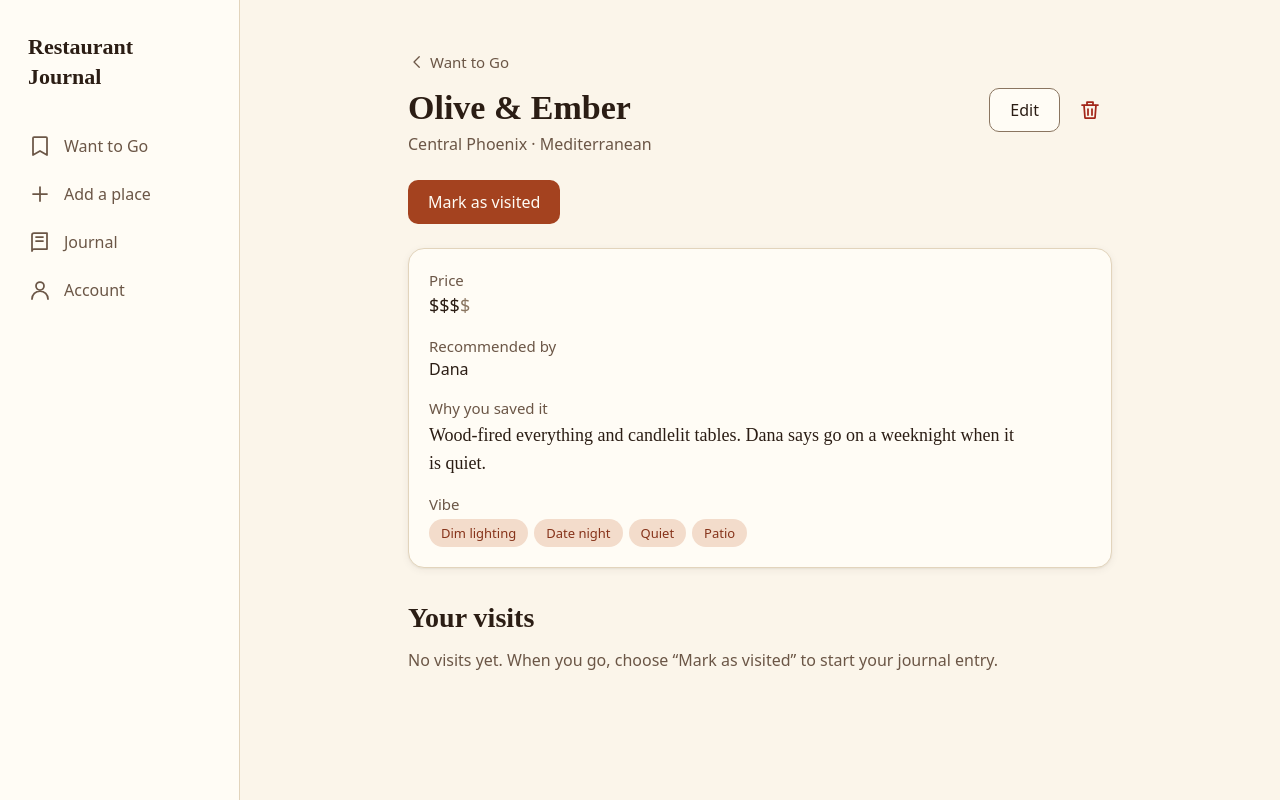
Test: Place detail screen › deletes a place after confirmation and returns to the list
The width and height of the screenshot is (1280, 800).
Click the button named "Delete Olive & Ember" at point(1090, 110), box [1068,88,1112,132]
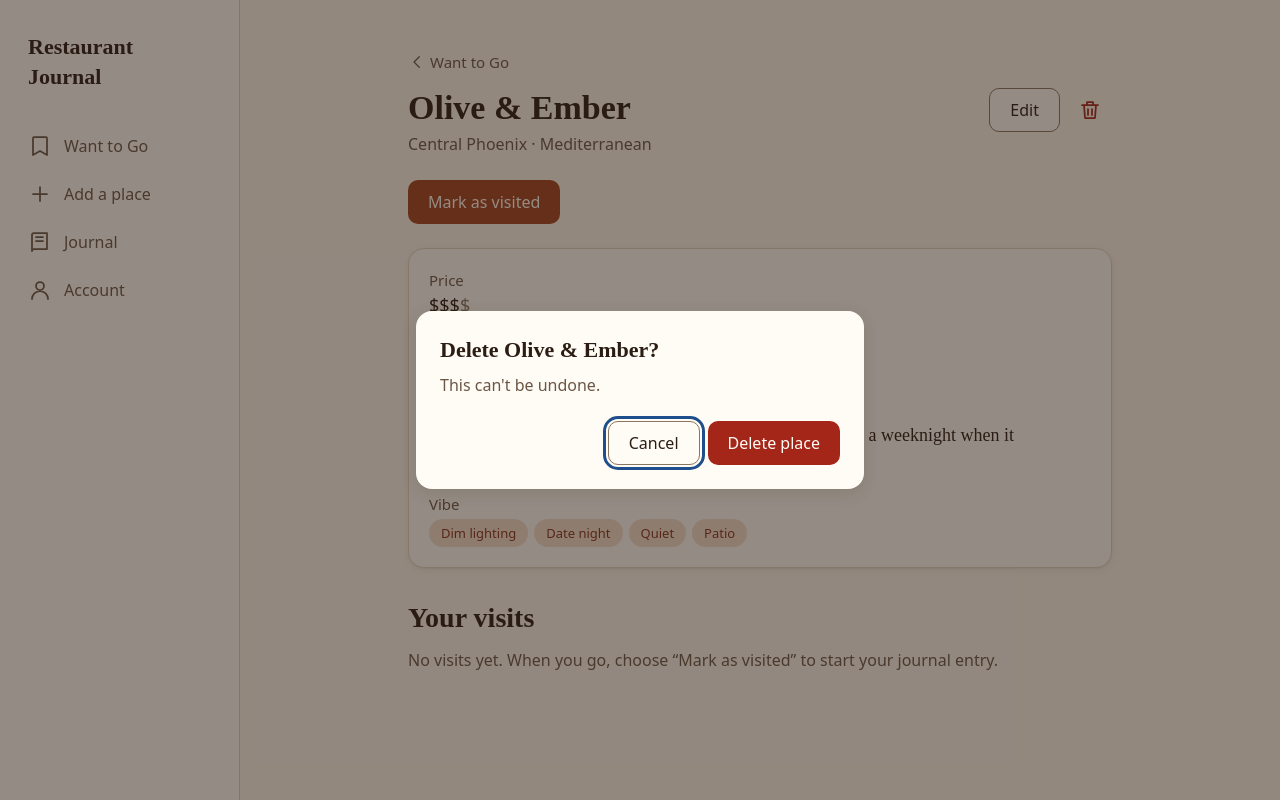
Now the dialog "Delete Olive & Ember?" shows "This can't be undone.", box [440,374,600,396]
Click the button "Delete place" at point(774, 443), box [708,421,840,465]
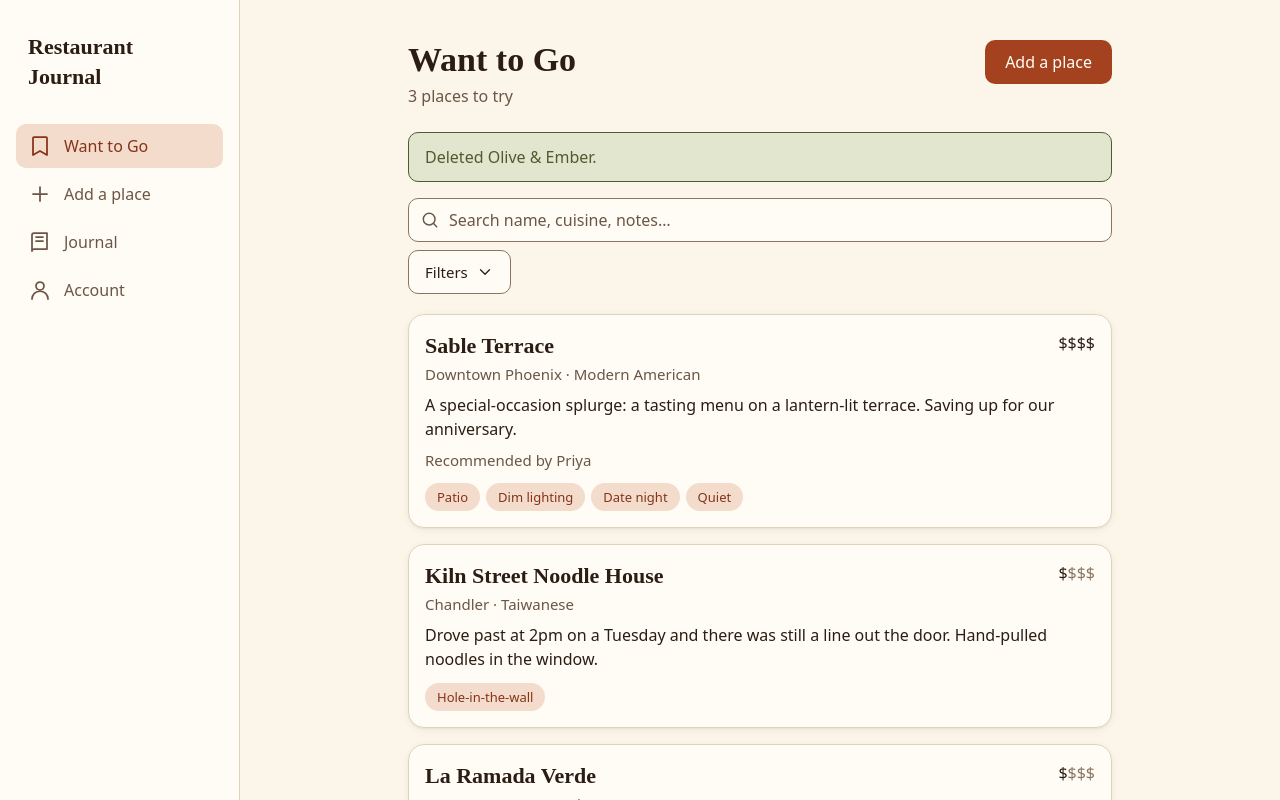
Now the heading "Want to Go" is shown, box [408,40,576,80]
Now the text "Deleted Olive & Ember." is shown, box [408,132,1112,182]
Now the text "3 places to try" is shown, box [408,85,513,107]
